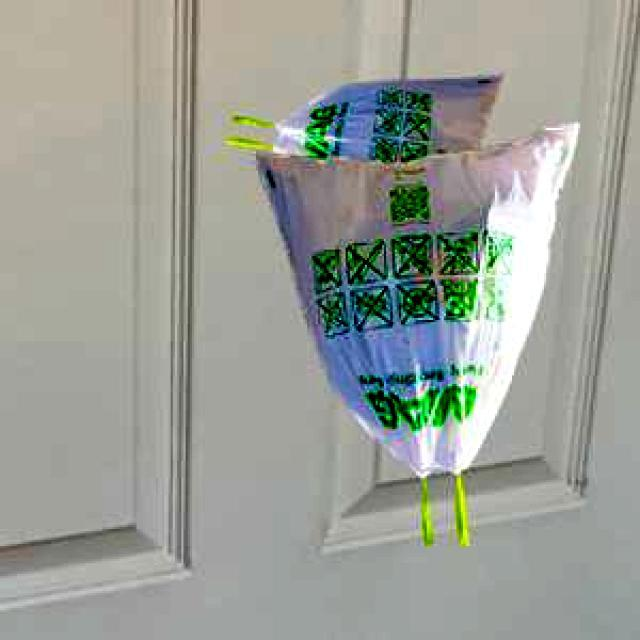Plastic_Bag: (250, 120, 576, 543), (225, 72, 500, 162)
